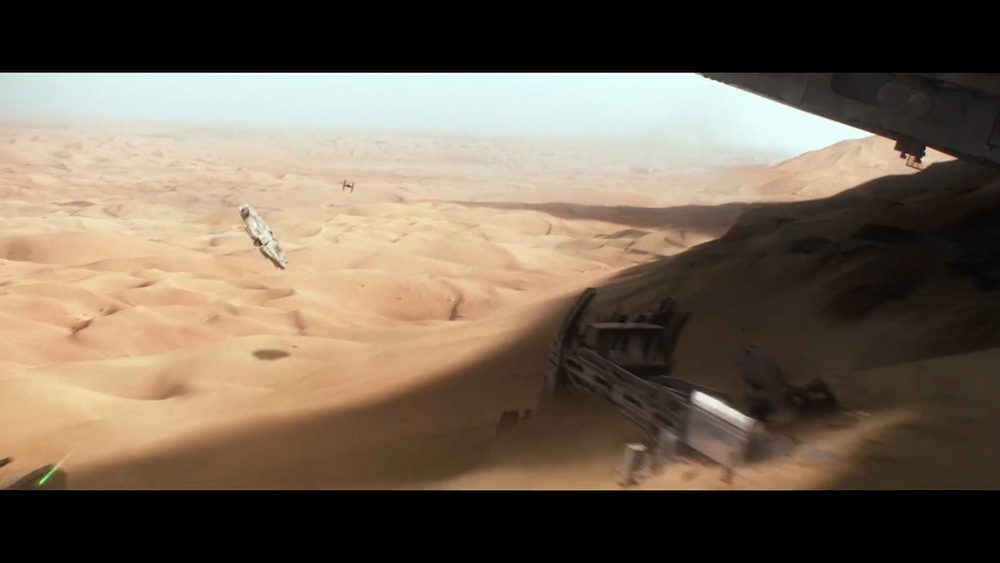Millennium Falcon: (239, 203, 291, 271)
Tie Fighter: (343, 179, 356, 194)
